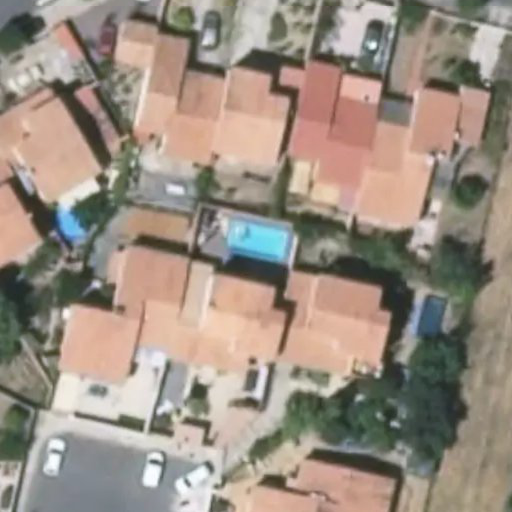pool: (226, 215, 288, 262), (415, 294, 447, 347), (56, 208, 90, 243)
